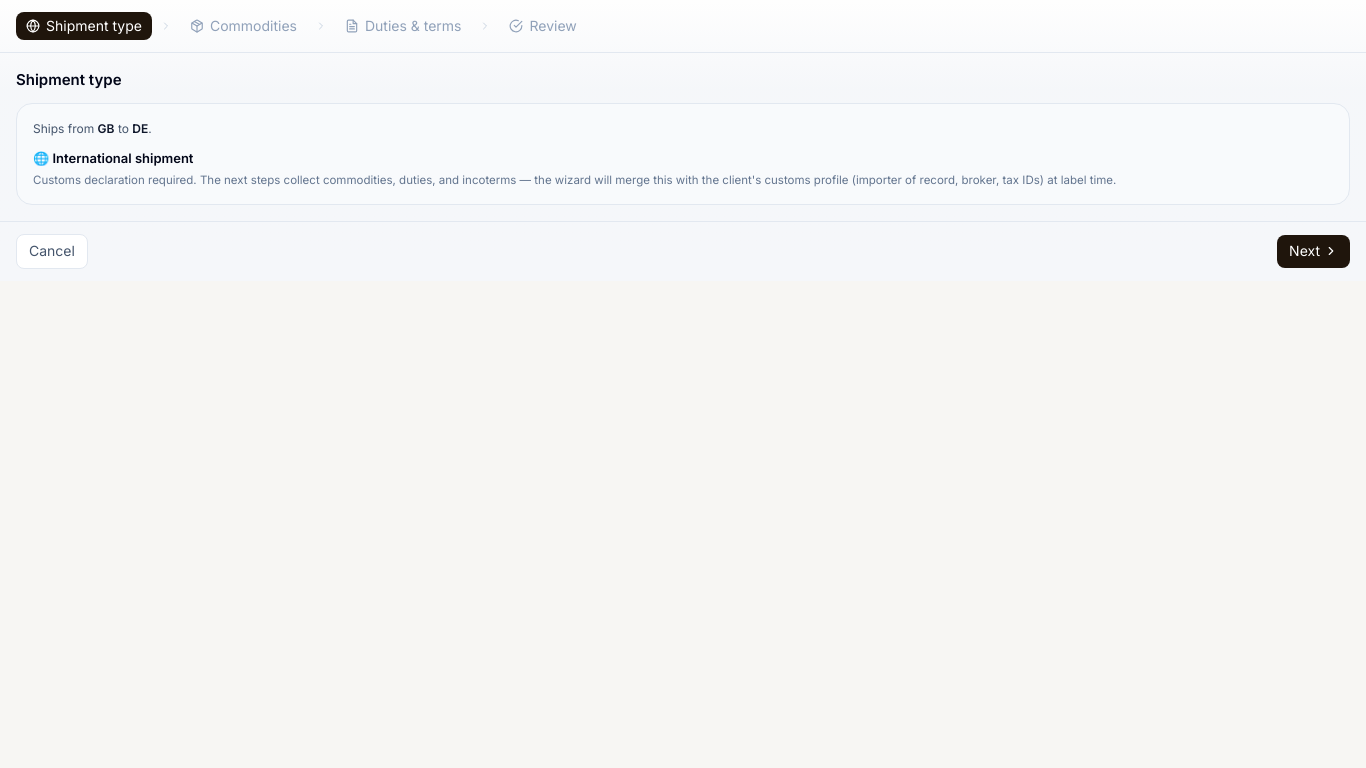
Test: CustomsWizard — generic export declaration reference › renders the export-declaration input on any intl duties step (non-US too)
The width and height of the screenshot is (1366, 768).
Step 1. Click the button "Next" → (1314, 251), box [1277,235,1350,268]
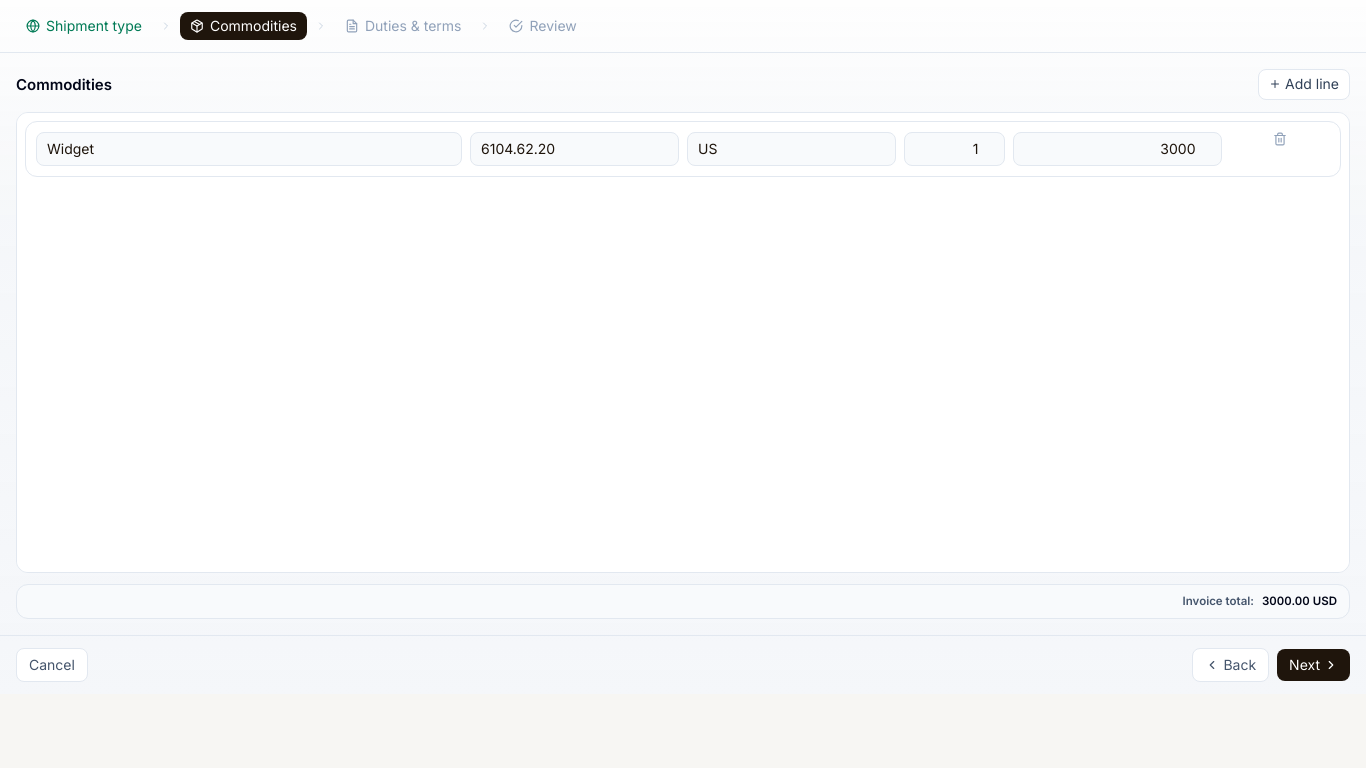
Step 2. Click the button "Next" → (1314, 665), box [1277,649,1350,681]
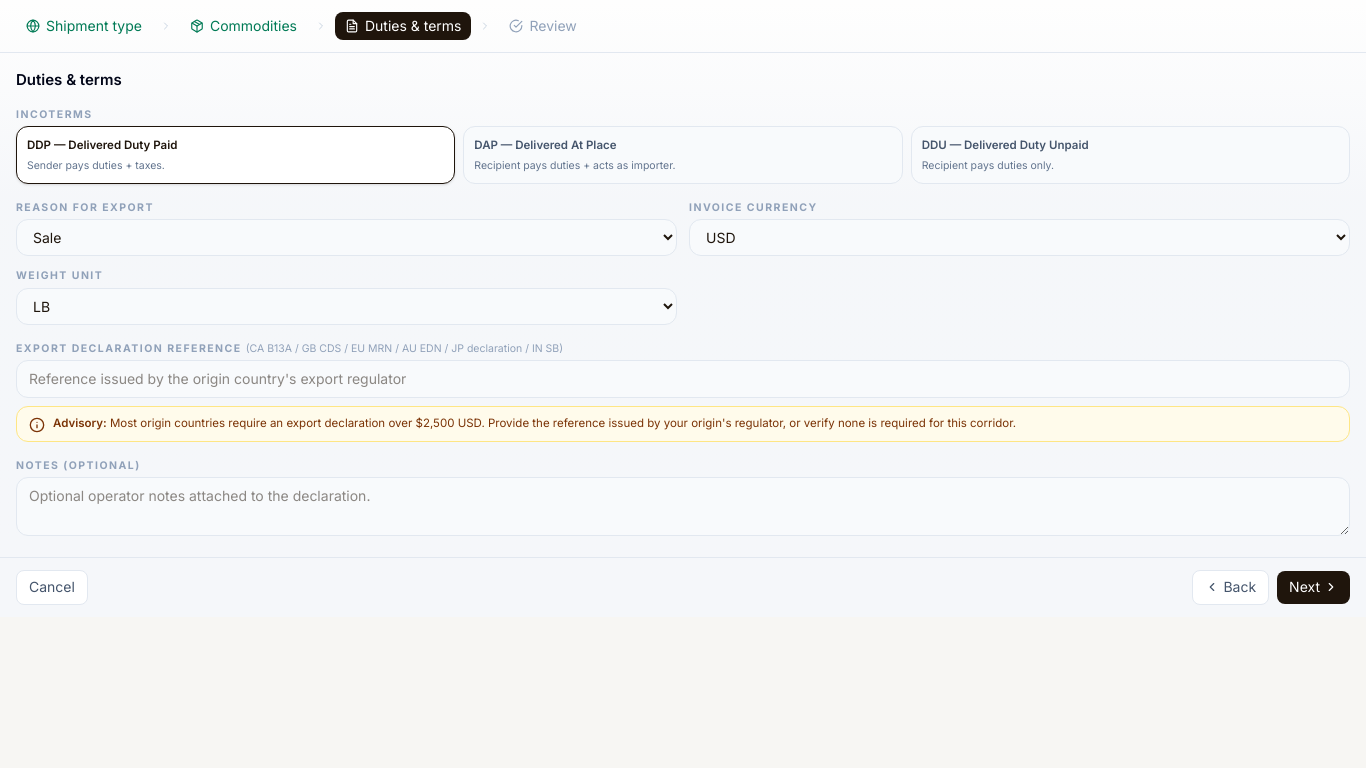
Expected: the field with placeholder "Reference issued by the origin country's export regulator" is shown, [16,360,1350,398]
